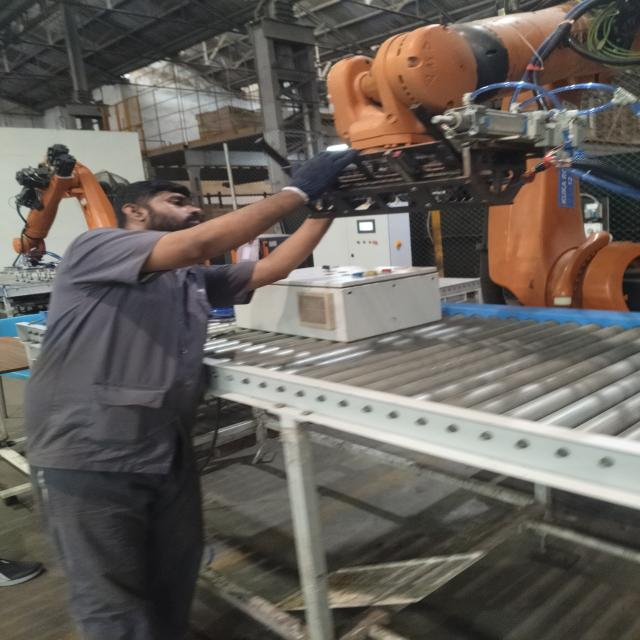Gloves-Detection: (278, 146, 350, 202)
